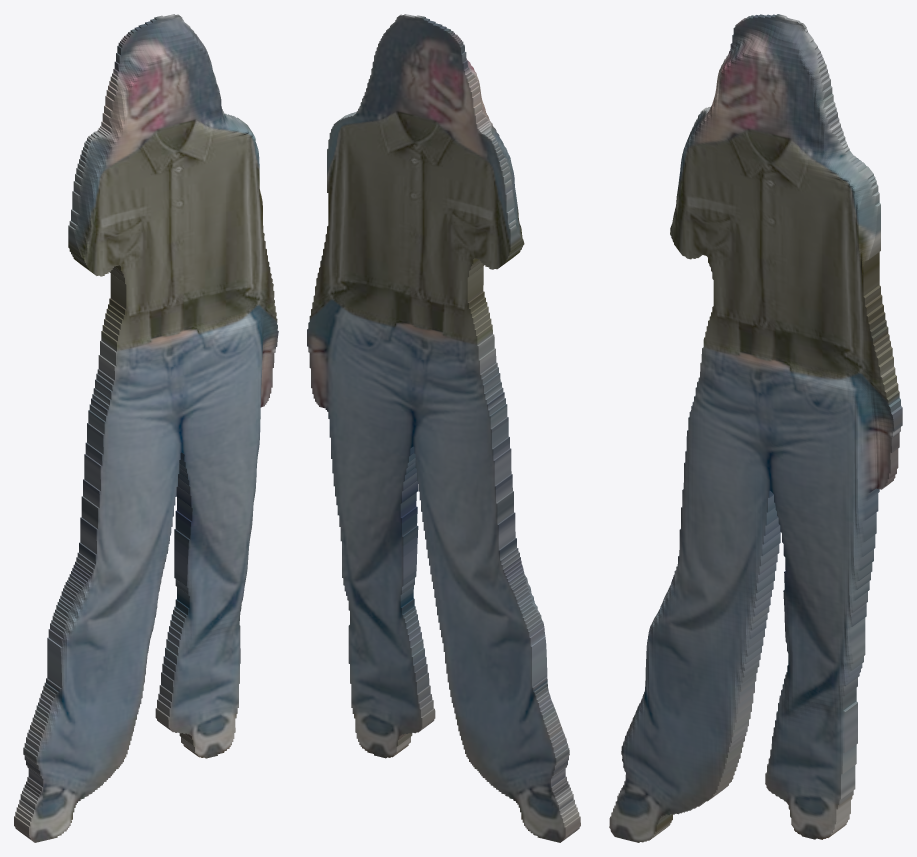
Rendered from avatar_ar_233441.glb.
3 renders of one model, left to right at view 1: azimuth 30°, elevation 25°; view 2: azimuth 150°, elevation 25°; view 3: azimuth 330°, elevation 25°, orthographic. The views are drawn at different scales.
Parts seen in each view (by area): view 1: world; view 2: world; view 3: world.
Part boxes in pixels (left/top/right/bottom): world: left=14, top=14, right=278, bottom=842; world: left=307, top=14, right=580, bottom=842; world: left=609, top=14, right=902, bottom=842.
Size of the model in its own units: 36.67 by 107 by 4.4.
